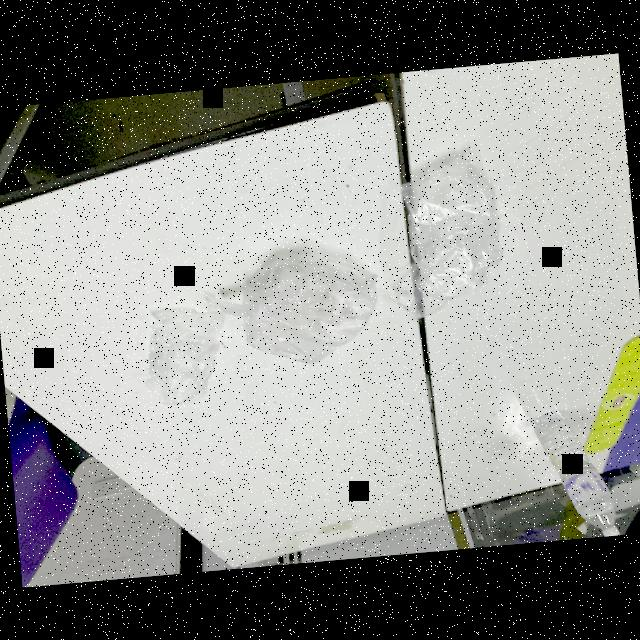plastic_bag: (380, 148, 510, 324), (219, 238, 388, 371), (137, 294, 232, 411)
